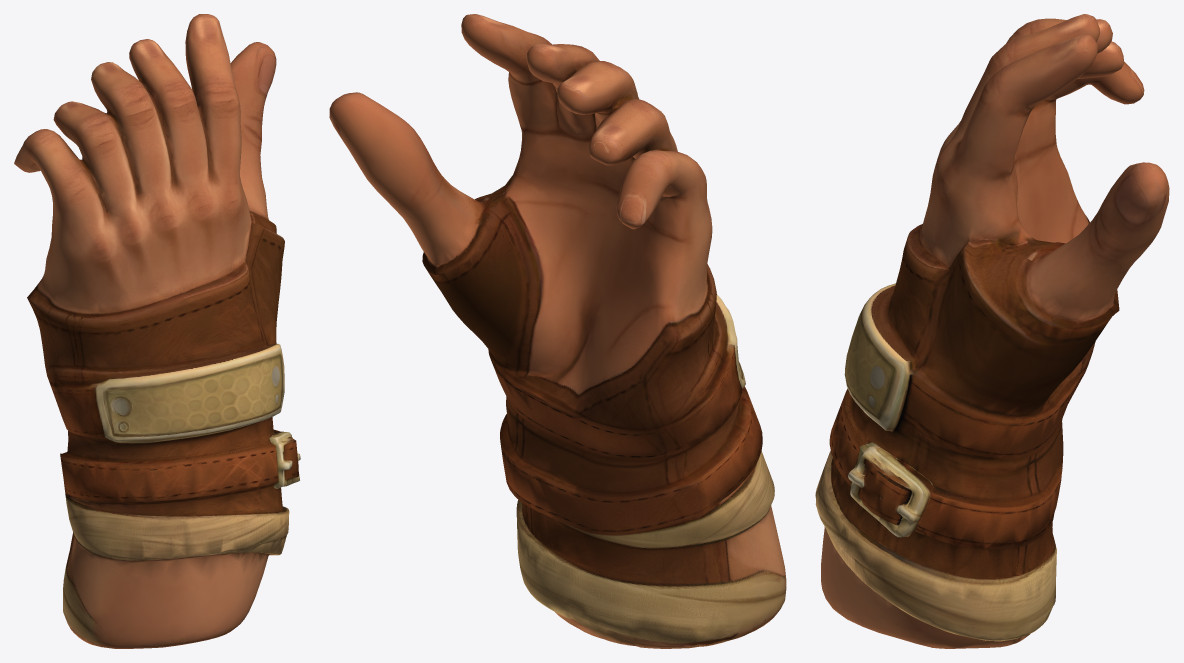
Rendered from cleaned-model.glb.
The picture shows the model from 3 angles, left to right: view 1: azimuth 30°, elevation 25°; view 2: azimuth 150°, elevation 25°; view 3: azimuth 270°, elevation 25°; orthographic projection. The views are drawn at different scales.
Visible parts, largest first — view 1: Mesh_0; view 2: Mesh_0; view 3: Mesh_0.
Boxes of the visible parts, x1=… form: Mesh_0: x1=14, y1=14, x2=300, y2=648; Mesh_0: x1=329, y1=14, x2=786, y2=648; Mesh_0: x1=815, y1=14, x2=1169, y2=648.
Bounding box in the file's own units: 0.2412 × 0.42 × 0.2127.
Materials: 1 (1 with a texture image).
